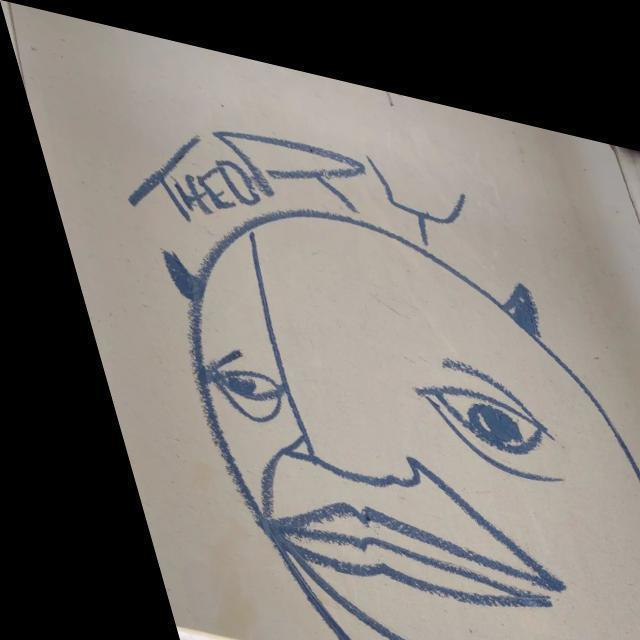nonspitting: (126, 129, 640, 640)
